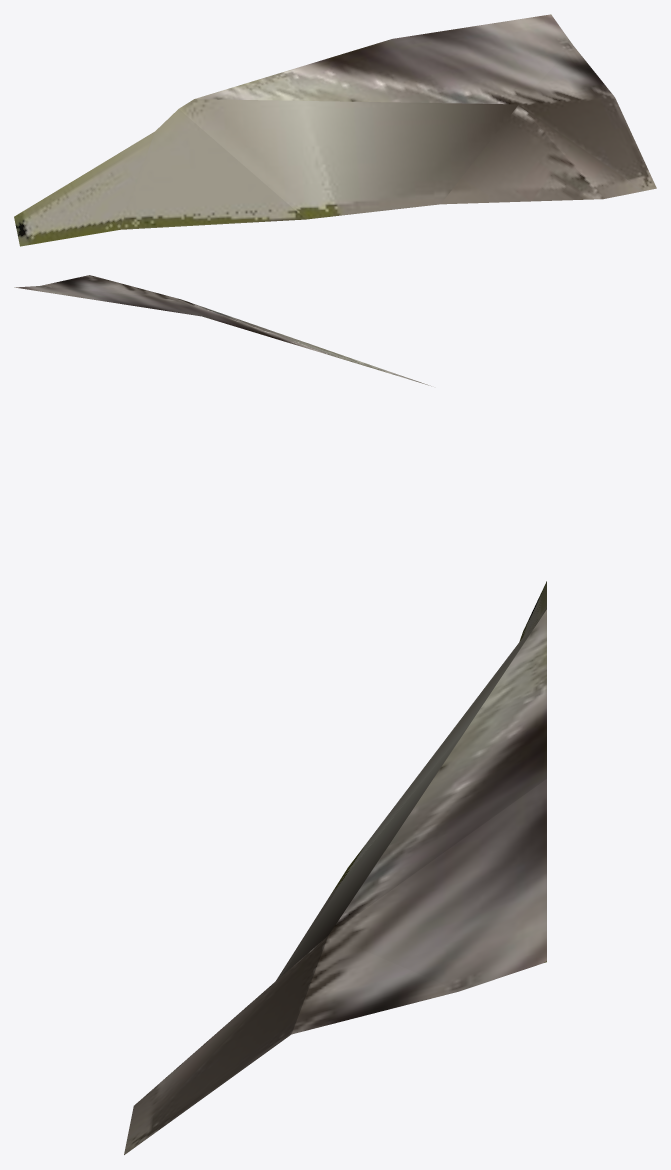
3 renders of one model, top to bottom at view 1: azimuth 30°, elevation 25°; view 2: azimuth 150°, elevation 25°; view 3: azimuth 270°, elevation 25°, orthographic. The views are drawn at different scales.
Size of the model in its own units: 1.67 by 0.3307 by 0.5714.
1 material, 1 textured.
